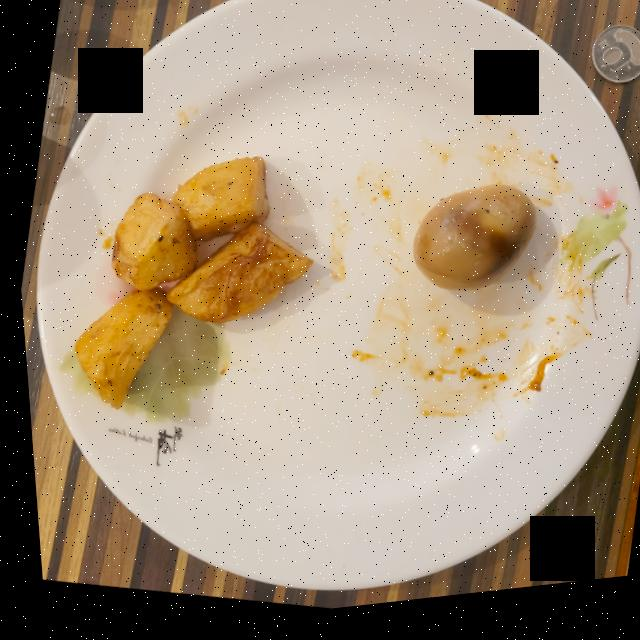coin: (589, 38, 640, 96)
fried potato: (69, 161, 307, 409)
soy egg: (408, 194, 532, 300)
